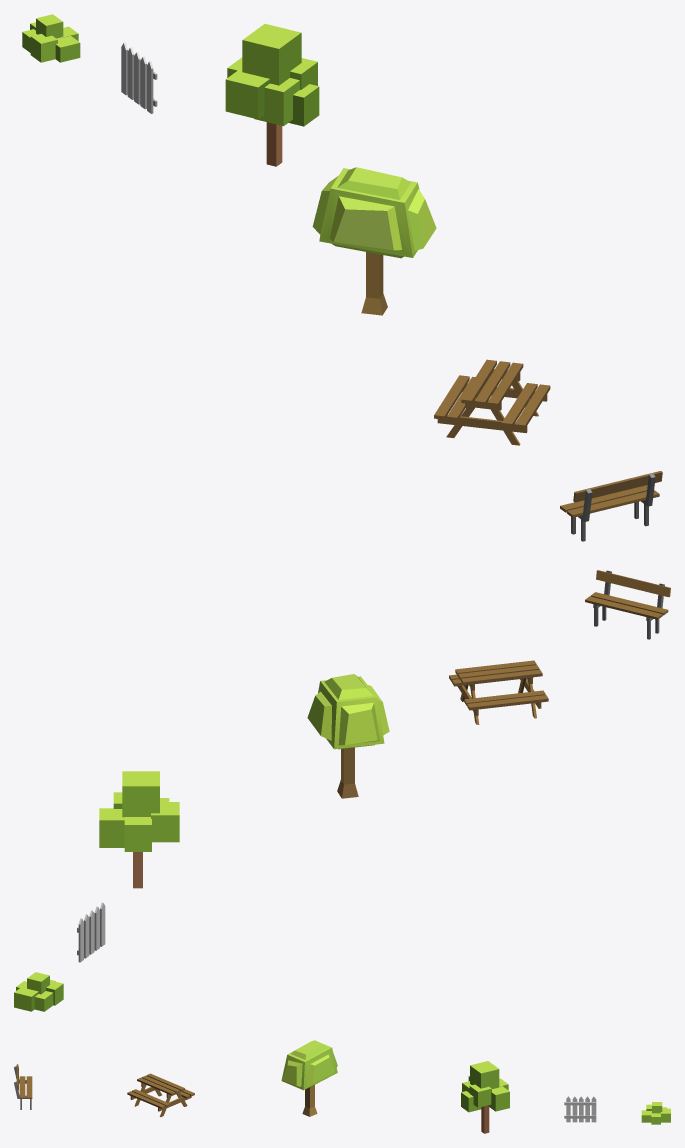
File: Liberty Park_subset.FBX
3 views of the same model, one above another, from view 1: azimuth 30°, elevation 25°; view 2: azimuth 150°, elevation 25°; view 3: azimuth 270°, elevation 25° (orthographic). The views are drawn at different scales.
Visible parts, largest first — view 1: Prop_Tree_01 (8), tree_medium_mesh (13), Park_bench_01 (5), bench_Small (17), bush_large_mesh (13), WhiteFence (269); view 2: Prop_Tree_01 (8), tree_medium_mesh (13), Park_bench_01 (5), bench_Small (17), bush_large_mesh (13), WhiteFence (269); view 3: Prop_Tree_01 (8), tree_medium_mesh (13), Park_bench_01 (5), WhiteFence (269), bush_large_mesh (13), bench_Small (17).
Part boxes in pixels (left/top/right/bottom): Prop_Tree_01 (8): left=312, top=167, right=436, bottom=315; tree_medium_mesh (13): left=225, top=24, right=319, bottom=166; Park_bench_01 (5): left=434, top=359, right=550, bottom=445; bench_Small (17): left=560, top=471, right=662, bottom=541; bush_large_mesh (13): left=22, top=14, right=80, bottom=62; WhiteFence (269): left=121, top=42, right=157, bottom=113; Prop_Tree_01 (8): left=307, top=674, right=389, bottom=798; tree_medium_mesh (13): left=99, top=771, right=179, bottom=888; Park_bench_01 (5): left=449, top=660, right=548, bottom=724; bench_Small (17): left=585, top=570, right=670, bottom=639; bush_large_mesh (13): left=14, top=972, right=63, bottom=1011; WhiteFence (269): left=77, top=902, right=105, bottom=962; Prop_Tree_01 (8): left=281, top=1040, right=337, bottom=1116; tree_medium_mesh (13): left=461, top=1061, right=509, bottom=1133; Park_bench_01 (5): left=127, top=1073, right=194, bottom=1117; WhiteFence (269): left=564, top=1096, right=596, bottom=1122; bush_large_mesh (13): left=641, top=1102, right=670, bottom=1124; bench_Small (17): left=14, top=1064, right=32, bottom=1109.
Bounding box in the file's own units: 7390 × 4700 × 41272.
Materials: 3 (3 with a texture image).
